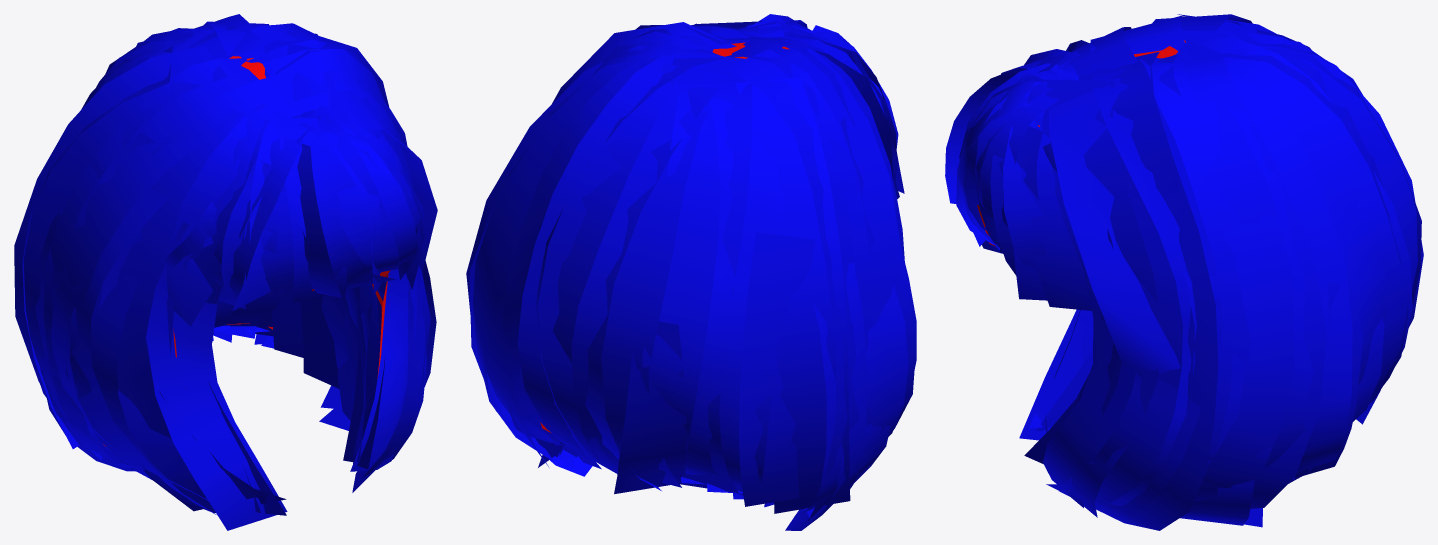
Rendered from hair_005.obj.
3 renders of one model, left to right at view 1: azimuth 30°, elevation 25°; view 2: azimuth 150°, elevation 25°; view 3: azimuth 270°, elevation 25°, orthographic. The views are drawn at different scales.
Bounding box in the file's own units: 25.57 × 27.7 × 27.23.
